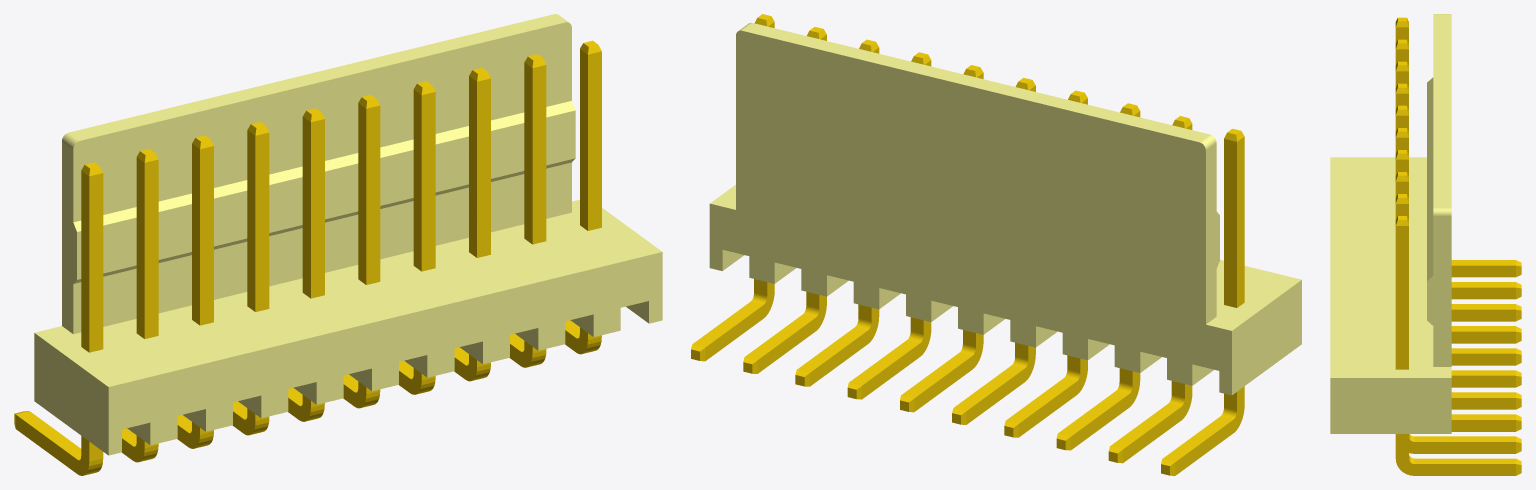
The model's file is DS1070-10MR (WF-10RA CONNFLY).obj.
3 views of the same model, side by side, from view 1: azimuth 30°, elevation 25°; view 2: azimuth 150°, elevation 25°; view 3: azimuth 270°, elevation 25° (orthographic). The views are drawn at different scales.
Visible parts, largest first — view 1: DS1070-10MR_(WF-10RA_CONNFLY); view 2: DS1070-10MR_(WF-10RA_CONNFLY); view 3: DS1070-10MR_(WF-10RA_CONNFLY).
Part boxes in pixels (x1=…): DS1070-10MR_(WF-10RA_CONNFLY): x1=14, y1=14, x2=662, y2=475; DS1070-10MR_(WF-10RA_CONNFLY): x1=691, y1=14, x2=1301, y2=475; DS1070-10MR_(WF-10RA_CONNFLY): x1=1330, y1=14, x2=1521, y2=475.
Size of the model in its own units: 0.0273 by 0.0152 by 0.01.
